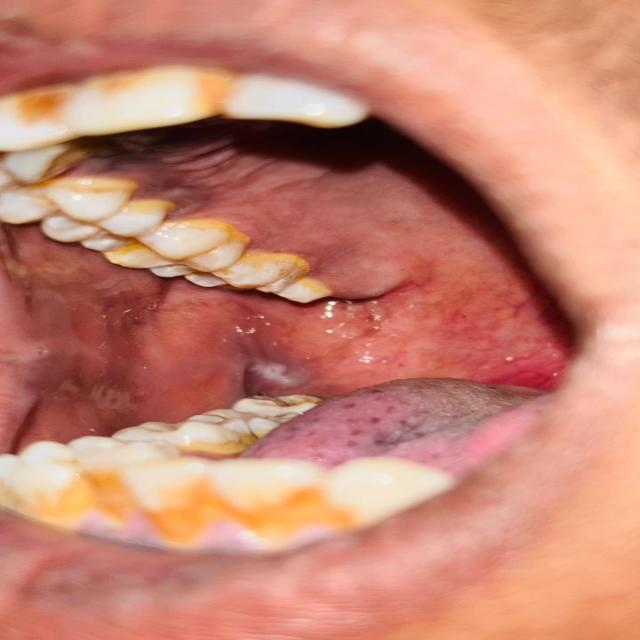leukoplakia-like-detection: (0, 261, 174, 455), (212, 334, 370, 395)
processing_area: (0, 147, 585, 456)
